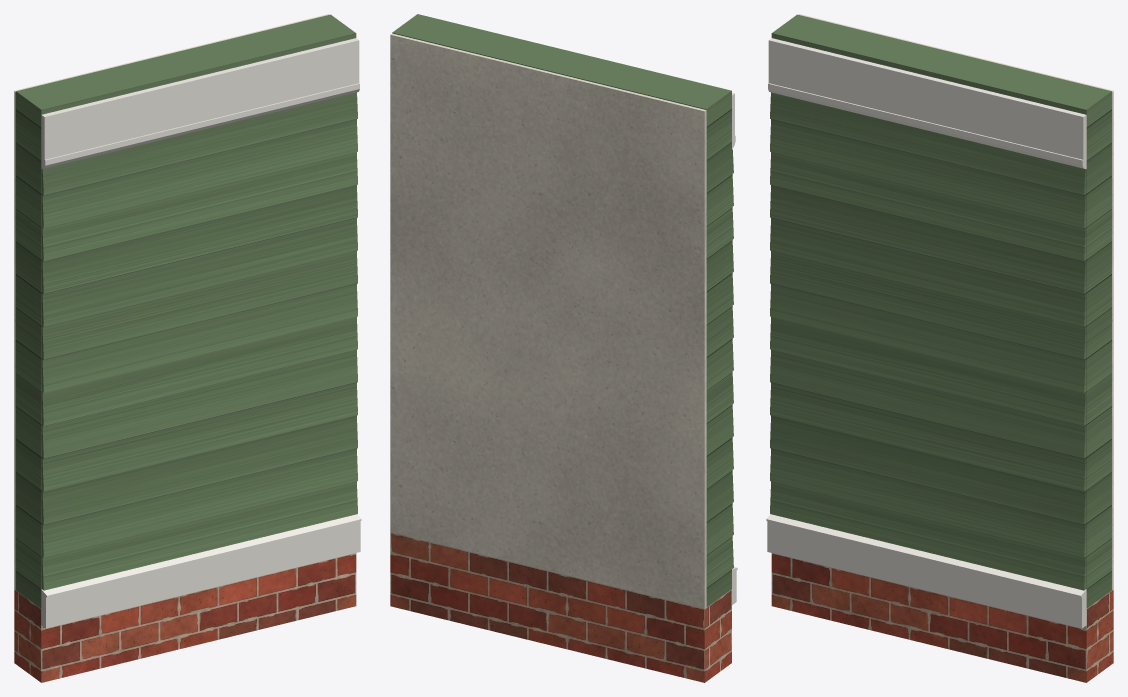
File: wall_siding_plain.glb
3 views of the same model, side by side, from view 1: azimuth 30°, elevation 25°; view 2: azimuth 150°, elevation 25°; view 3: azimuth 330°, elevation 25° (orthographic).
Visible parts, largest first — view 1: wall_siding_plain_siding, wall_siding_plain_trim, wall_siding_plain_brick, wall_siding_plain_plaster; view 2: wall_siding_plain_plaster, wall_siding_plain_brick, wall_siding_plain_siding; view 3: wall_siding_plain_siding, wall_siding_plain_trim, wall_siding_plain_brick, wall_siding_plain_plaster.
Part boxes in pixels (bbox=[...]): wall_siding_plain_siding: bbox=[16, 14, 357, 608]; wall_siding_plain_trim: bbox=[41, 38, 361, 628]; wall_siding_plain_brick: bbox=[14, 553, 356, 682]; wall_siding_plain_plaster: bbox=[14, 14, 329, 589]; wall_siding_plain_plaster: bbox=[390, 33, 706, 608]; wall_siding_plain_brick: bbox=[390, 532, 731, 682]; wall_siding_plain_siding: bbox=[392, 14, 733, 606]; wall_siding_plain_siding: bbox=[770, 14, 1111, 608]; wall_siding_plain_trim: bbox=[766, 38, 1086, 628]; wall_siding_plain_brick: bbox=[771, 553, 1113, 682]; wall_siding_plain_plaster: bbox=[798, 14, 1113, 589].
Size of the model in its own units: 2 by 3.48 by 0.362.
Materials: 4 (3 with a texture image).
